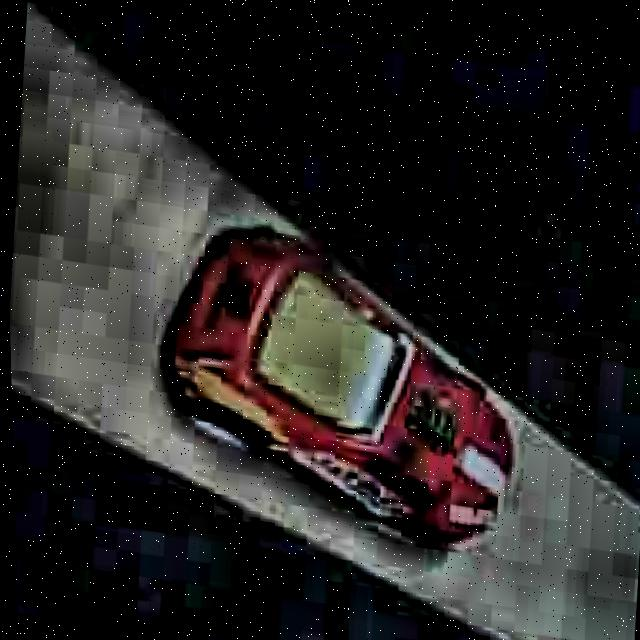car: (137, 206, 534, 562)
